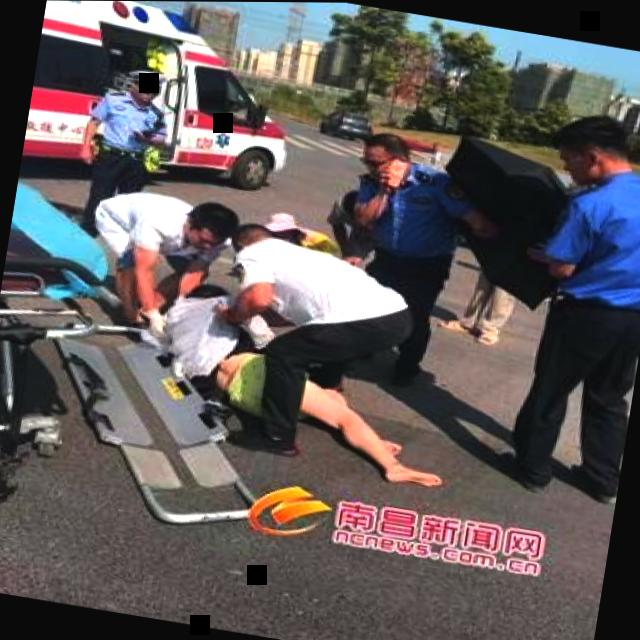Fall-Detected: (128, 262, 448, 481)
